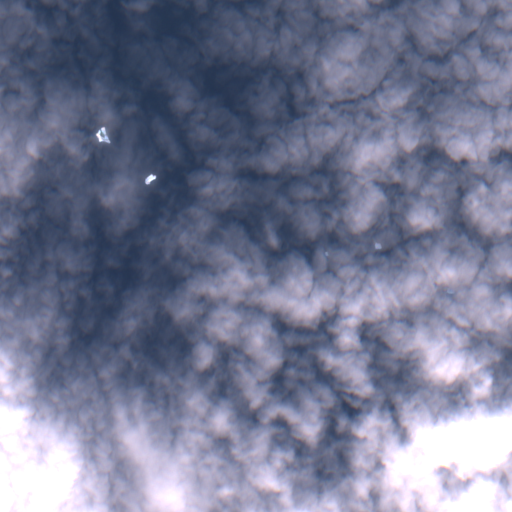Iceberg: (96, 126, 110, 143), (145, 173, 156, 184), (375, 243, 381, 248), (325, 252, 328, 255)
